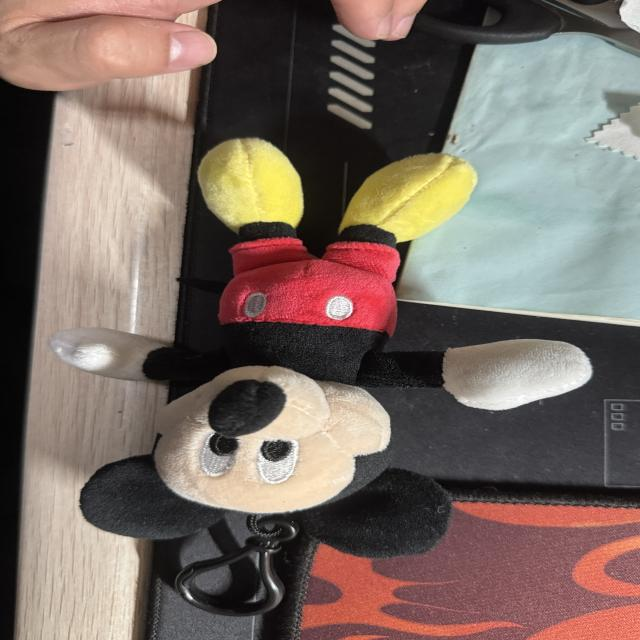mickey: (51, 139, 591, 557)
